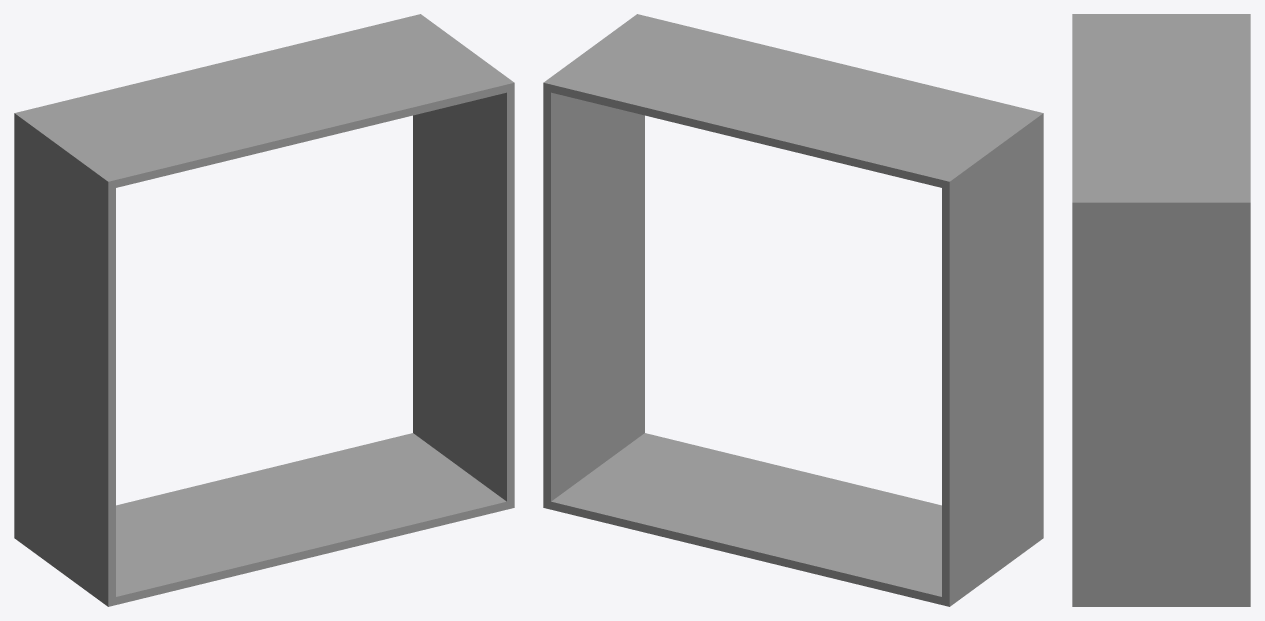
File: meuble_68fb5e261ffb0.glb
3 renders of one model, left to right at view 1: azimuth 30°, elevation 25°; view 2: azimuth 150°, elevation 25°; view 3: azimuth 270°, elevation 25°, orthographic. The views are drawn at different scales.
Visible parts, largest first — view 1: world; view 2: world; view 3: world.
Boxes of the visible parts, x1,y1,x2,y2 form: world: (14,14,514,606); world: (543,14,1043,606); world: (1072,14,1250,606).
Size of the model in its own units: 1 by 1 by 0.4.
Materials: 1 (1 with a texture image).
